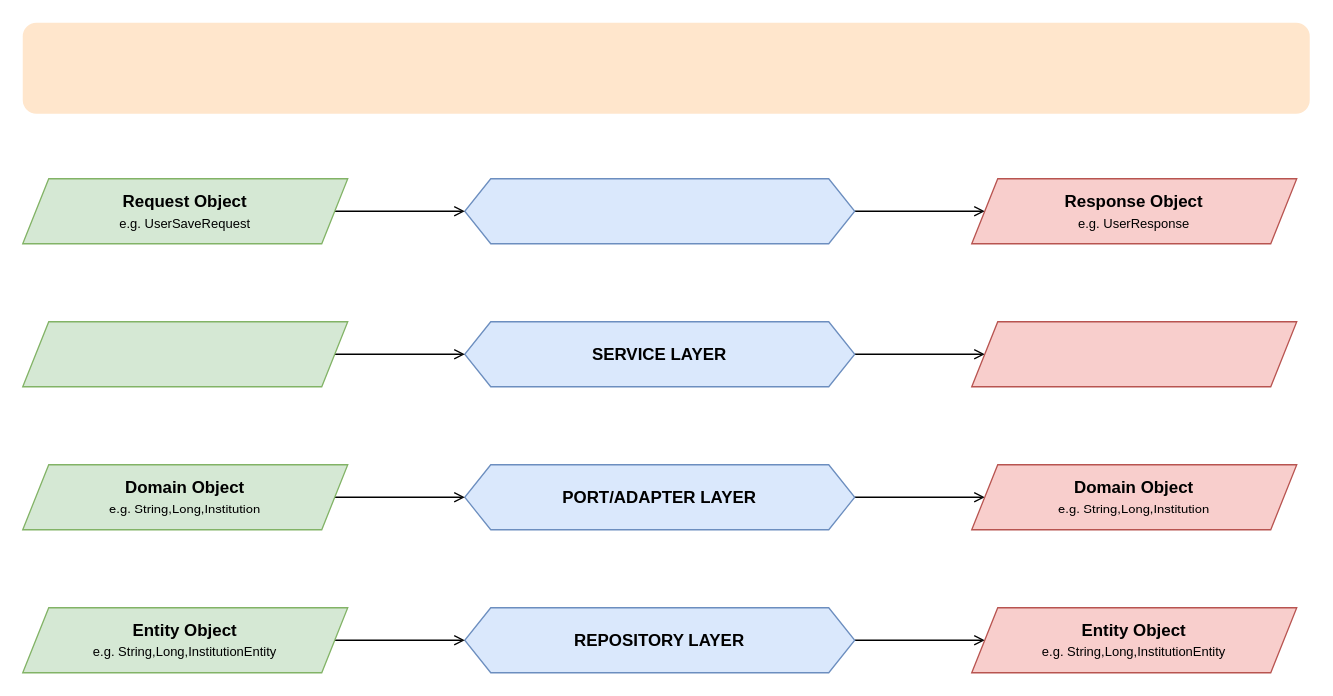
Image size: 1333x696. Some labels were removed from this diagram. The centre of each missing label's shape, as x and y in pixels:
"AYS Architecture" belongs at [665,67].
"CONTROLLER LAYER" belongs at [659,210].
"Domain Object e.g. String,Long,Role" belongs at [1133,353].
"Request Object e.g. String,Long,RoleUpdateRequest" belongs at [184,353].
